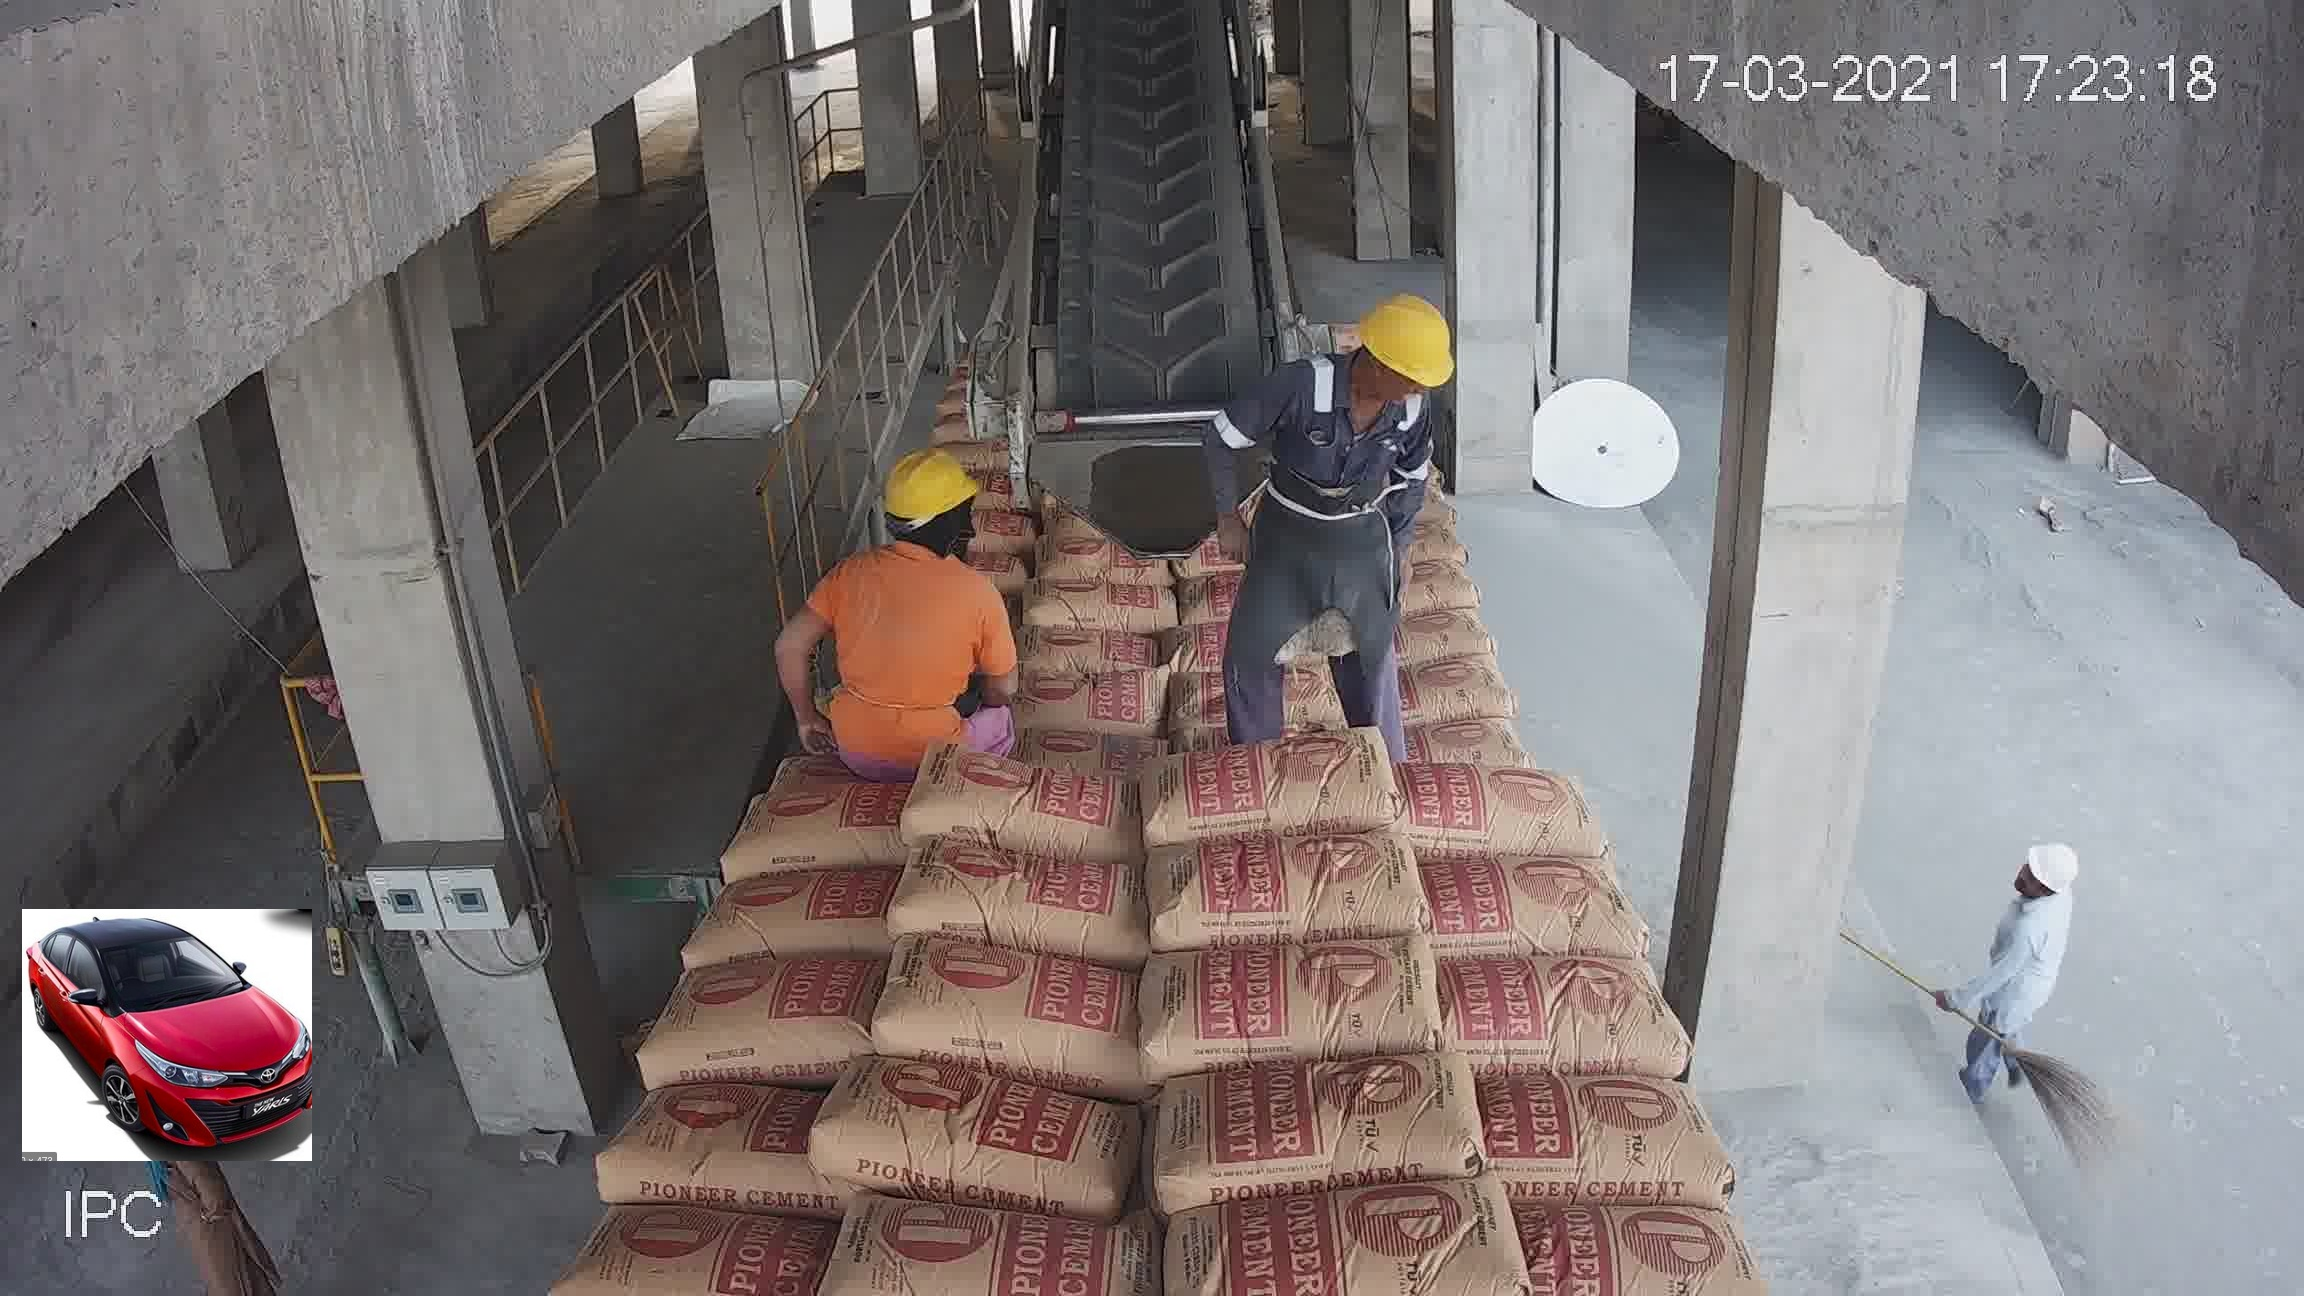bag: (1109, 244, 1185, 375), (1090, 0, 1195, 74)
bag_h: (1173, 1022, 1492, 1211), (1155, 1168, 1532, 1293), (1131, 932, 1465, 1068), (1173, 812, 1426, 964), (1419, 942, 1693, 1081), (646, 942, 878, 1103), (824, 1065, 1098, 1199), (1138, 715, 1385, 859), (1449, 1067, 1696, 1211), (896, 946, 1150, 1071), (886, 848, 1166, 957), (1508, 1192, 1791, 1296), (543, 1198, 820, 1296), (900, 755, 1152, 862), (788, 1209, 1149, 1283), (1124, 658, 1350, 771), (1437, 853, 1628, 980), (604, 1076, 821, 1179), (707, 774, 916, 873), (1199, 578, 1385, 687), (1374, 669, 1559, 779), (677, 878, 907, 964), (1408, 760, 1593, 856), (991, 600, 1174, 692), (756, 693, 916, 793), (793, 630, 949, 723), (801, 573, 956, 665), (1168, 527, 1351, 597), (932, 685, 1143, 736), (1362, 554, 1506, 622), (1393, 617, 1540, 684), (975, 562, 1166, 612), (1035, 453, 1184, 502), (1302, 411, 1434, 467), (1048, 418, 1152, 484), (1336, 476, 1461, 532), (1051, 487, 1184, 533), (1329, 514, 1451, 563), (1320, 369, 1408, 404), (1336, 394, 1423, 427), (1329, 449, 1443, 472), (1317, 318, 1385, 351), (1317, 343, 1389, 373)
belt: (1036, 21, 1237, 380)
